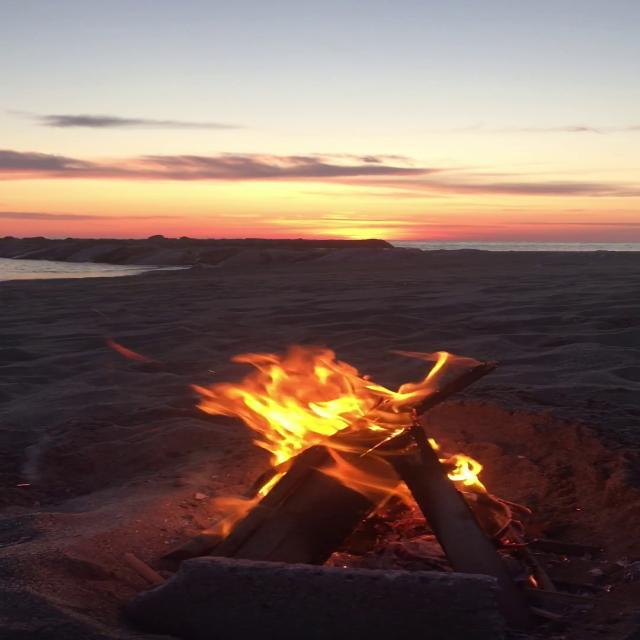Fire: (162, 336, 502, 509), (166, 336, 472, 471)
